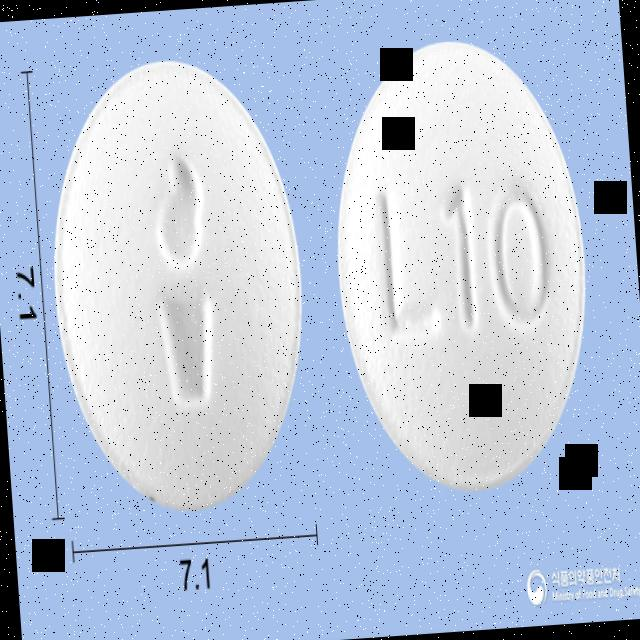Leflu - 20mg: (320, 25, 602, 501), (36, 45, 318, 518)
